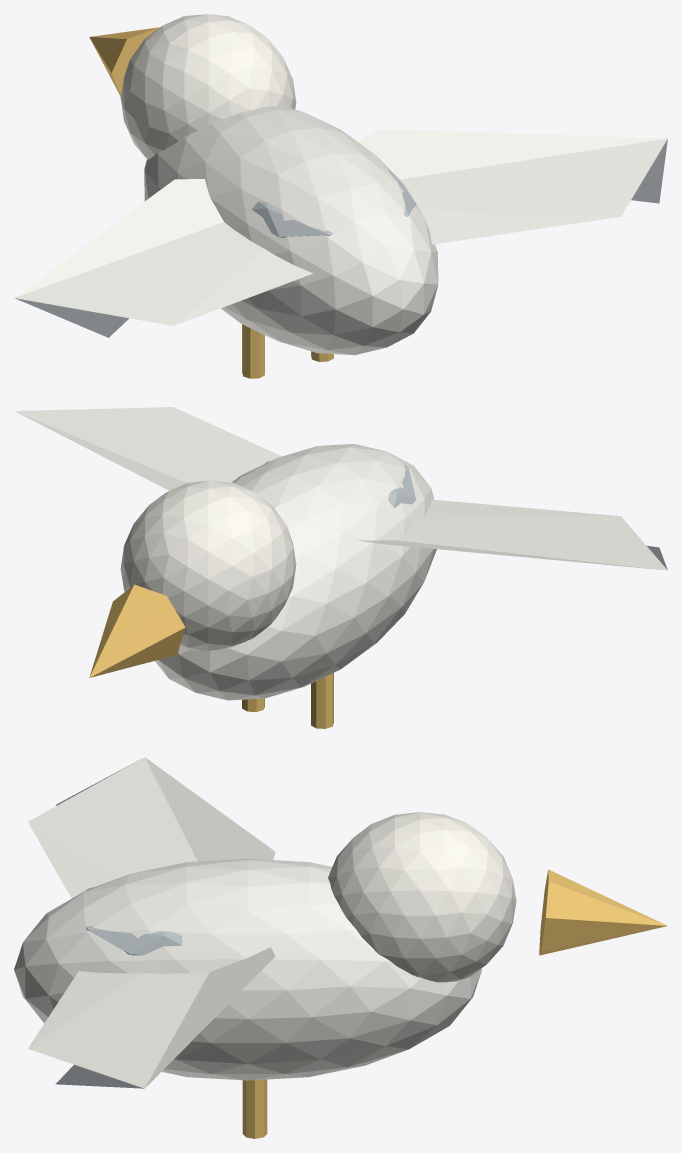
Rendered from seagull.glb.
3 views of the same model, one above another, from view 1: azimuth 30°, elevation 25°; view 2: azimuth 150°, elevation 25°; view 3: azimuth 270°, elevation 25° (orthographic). The views are drawn at different scales.
Visible parts, largest first — view 1: Body_White, Wing_Left_Flap_Pivot, Wing_Right_Flap_Pivot, Head_White, Beak_Amber, Back_Grey_Feather_Patch, Wingtip_Right, Feet_Left, Wingtip_Left; view 2: Body_White, Head_White, Wing_Left_Flap_Pivot, Wing_Right_Flap_Pivot, Beak_Amber, Feet_Left, Back_Grey_Feather_Patch; view 3: Body_White, Head_White, Wing_Right_Flap_Pivot, Wing_Left_Flap_Pivot, Beak_Amber, Feet_Right, Back_Grey_Feather_Patch, Wingtip_Left.
Boxes of the visible parts, box(x1,y1,x2,y2) form: Body_White: box(144, 106, 438, 355); Wing_Left_Flap_Pivot: box(357, 129, 667, 244); Wing_Right_Flap_Pivot: box(14, 179, 313, 325); Head_White: box(120, 14, 296, 159); Beak_Amber: box(89, 27, 158, 96); Back_Grey_Feather_Patch: box(252, 170, 415, 237); Wingtip_Right: box(15, 298, 128, 337); Feet_Left: box(242, 324, 264, 378); Wingtip_Left: box(631, 139, 667, 203); Body_White: box(155, 444, 436, 700); Head_White: box(120, 480, 296, 651); Wing_Left_Flap_Pivot: box(14, 407, 281, 490); Wing_Right_Flap_Pivot: box(357, 499, 667, 570); Beak_Amber: box(89, 584, 185, 677); Feet_Left: box(311, 673, 333, 728); Back_Grey_Feather_Patch: box(264, 461, 415, 508); Body_White: box(14, 858, 481, 1080); Head_White: box(328, 812, 516, 982); Wing_Right_Flap_Pivot: box(28, 757, 275, 898); Wing_Left_Flap_Pivot: box(28, 947, 275, 1088); Beak_Amber: box(539, 869, 667, 955); Feet_Right: box(242, 1079, 267, 1138); Back_Grey_Feather_Patch: box(86, 887, 182, 955); Wingtip_Left: box(55, 1064, 143, 1088).
Size of the model in its own units: 1.14 by 0.475 by 0.95.
